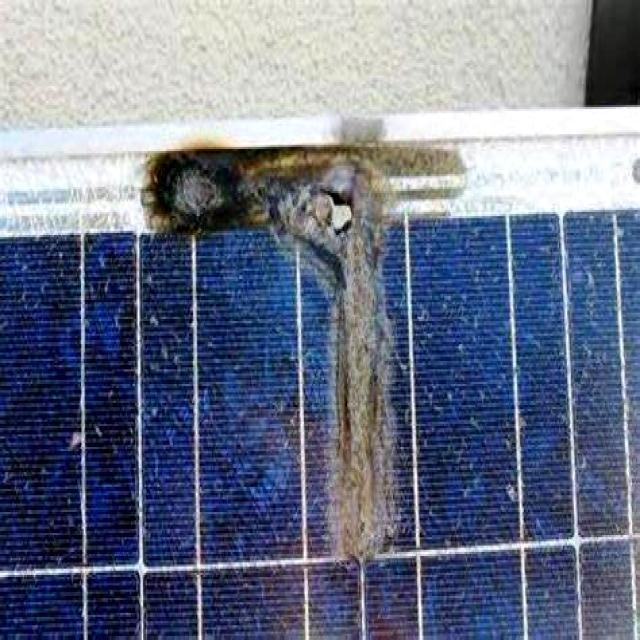shadow: (146, 136, 434, 590)
